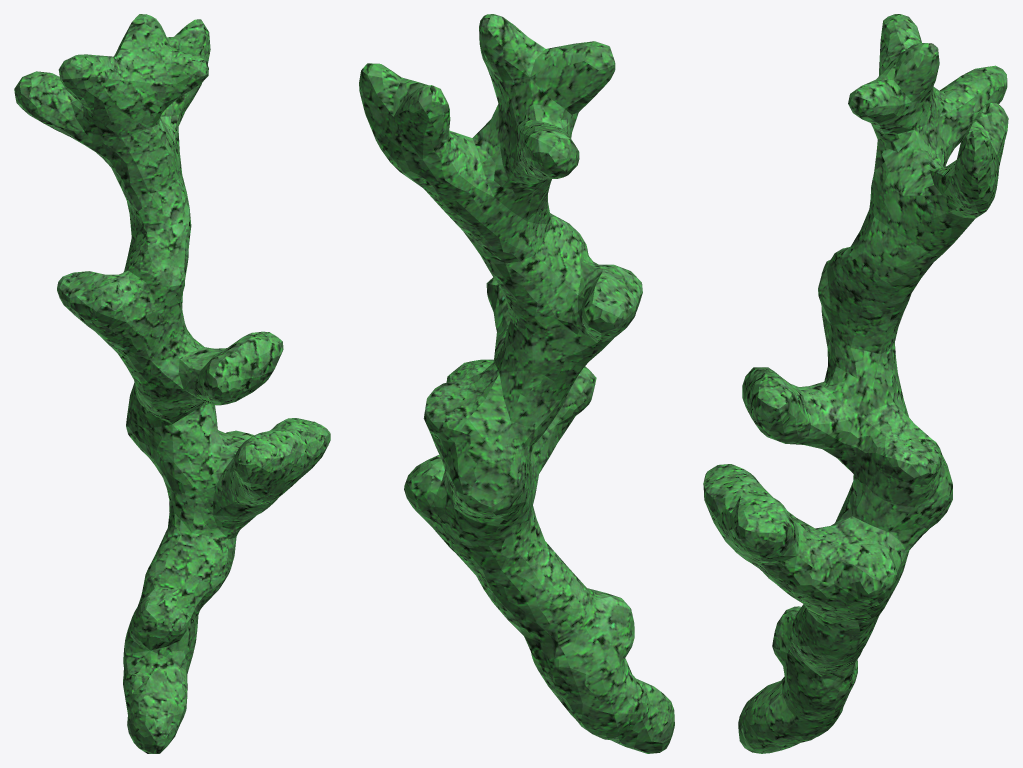
The model's file is coral tree 2 green.glb.
The picture shows the model from 3 angles, left to right: view 1: azimuth 30°, elevation 25°; view 2: azimuth 150°, elevation 25°; view 3: azimuth 270°, elevation 25°; orthographic projection. The views are drawn at different scales.
Visible parts, largest first — view 1: coral_4_whole_watertight_small; view 2: coral_4_whole_watertight_small; view 3: coral_4_whole_watertight_small.
Boxes of the visible parts, bbox=[...] form: coral_4_whole_watertight_small: bbox=[14, 14, 330, 753]; coral_4_whole_watertight_small: bbox=[359, 14, 674, 753]; coral_4_whole_watertight_small: bbox=[703, 14, 1008, 753].
Bounding box in the file's own units: 70.01 × 215 × 79.78.
1 material, 1 textured.
